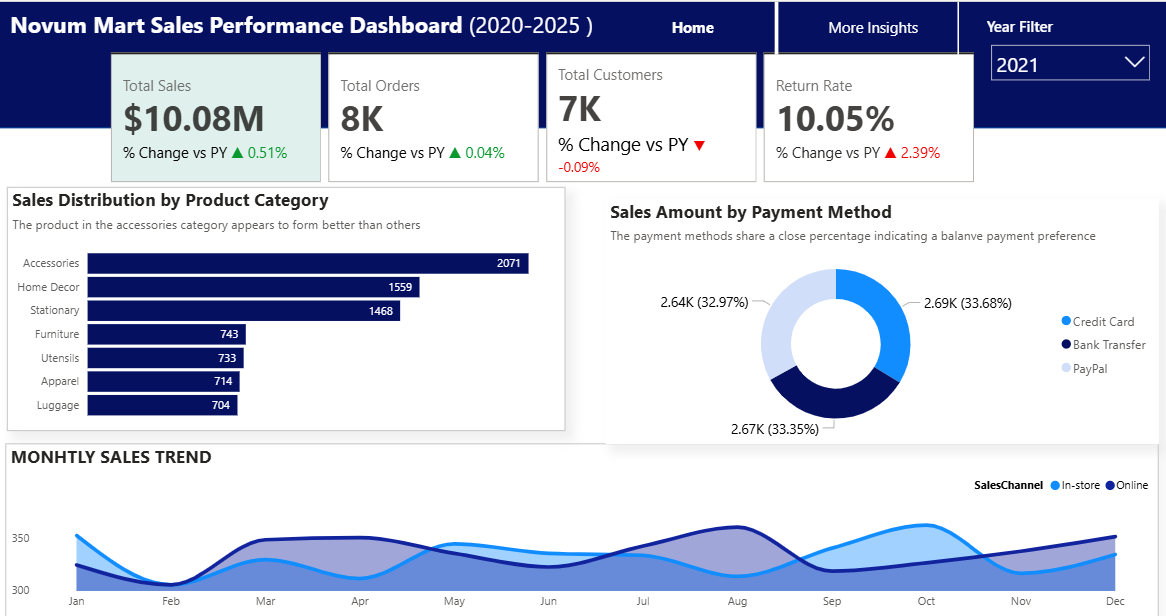

The dashboard page shown, as its layout file describes it:
{"tool":"powerbi","page":{"name":"Home","canvas":[1280,720],"ordinal":0},"visuals":[{"type":"shape","box":[4.9,6.5,1267.9,183],"z":0},{"type":"cardVisual","fields":{"Data":["_Measures.Total Sales","_Measures.Total Orders","_Measures.Total Customers","_Measures.Return Rate"]},"box":[126.3,102,945.6,150.6],"z":1000},{"type":"slicer","title":"Year Filter","fields":{"Values":["DateTable.Year"]},"box":[1071.6,67.7,191.2,121.5],"z":2000},{"type":"areaChart","title":"MONHTLY SALES TREND","fields":{"Category":["DateTable.Month Name"],"Y":["CountNonNull(NovumMart.SalesAmount)"],"Series":["NovumMart.SalesChannel"]},"box":[17.9,529.8,1244.8,189.2],"z":3000},{"type":"barChart","title":"Sales Distribution by Product Category","fields":{"Category":["NovumMart.Category"],"Y":["CountNonNull(NovumMart.SalesAmount)"]},"box":[18.9,253.3,602.6,263.5],"z":4000},{"type":"donutChart","title":"Sales Amount by Payment Method","fields":{"Category":["NovumMart.PaymentMethod"],"Y":["CountNonNull(NovumMart.SalesAmount)"]},"box":[665.2,264.9,597.5,264.9],"z":5000},{"type":"textbox","box":[17.9,55.8,647.3,53.8],"z":6000},{"type":"pageNavigator","box":[667.1,48.6,380.5,61.5],"z":7000}]}

Visuals, with their boxes on the page's 1280x720 design canvas (x1, y1, x2, y2). These are canvas units, not pixel positions in the 1166x616 screenshot, which may show the page scaled, cropped or inside an application window:
shape: left=5, top=6, right=1273, bottom=190
cardVisual - _Measures.Total Sales x _Measures.Total Orders: left=126, top=102, right=1072, bottom=253
"Year Filter" slicer: left=1072, top=68, right=1263, bottom=189
"MONHTLY SALES TREND" areaChart: left=18, top=530, right=1263, bottom=719
"Sales Distribution by Product Category" barChart: left=19, top=253, right=622, bottom=517
"Sales Amount by Payment Method" donutChart: left=665, top=265, right=1263, bottom=530
textbox: left=18, top=56, right=665, bottom=110
pageNavigator: left=667, top=49, right=1048, bottom=110
